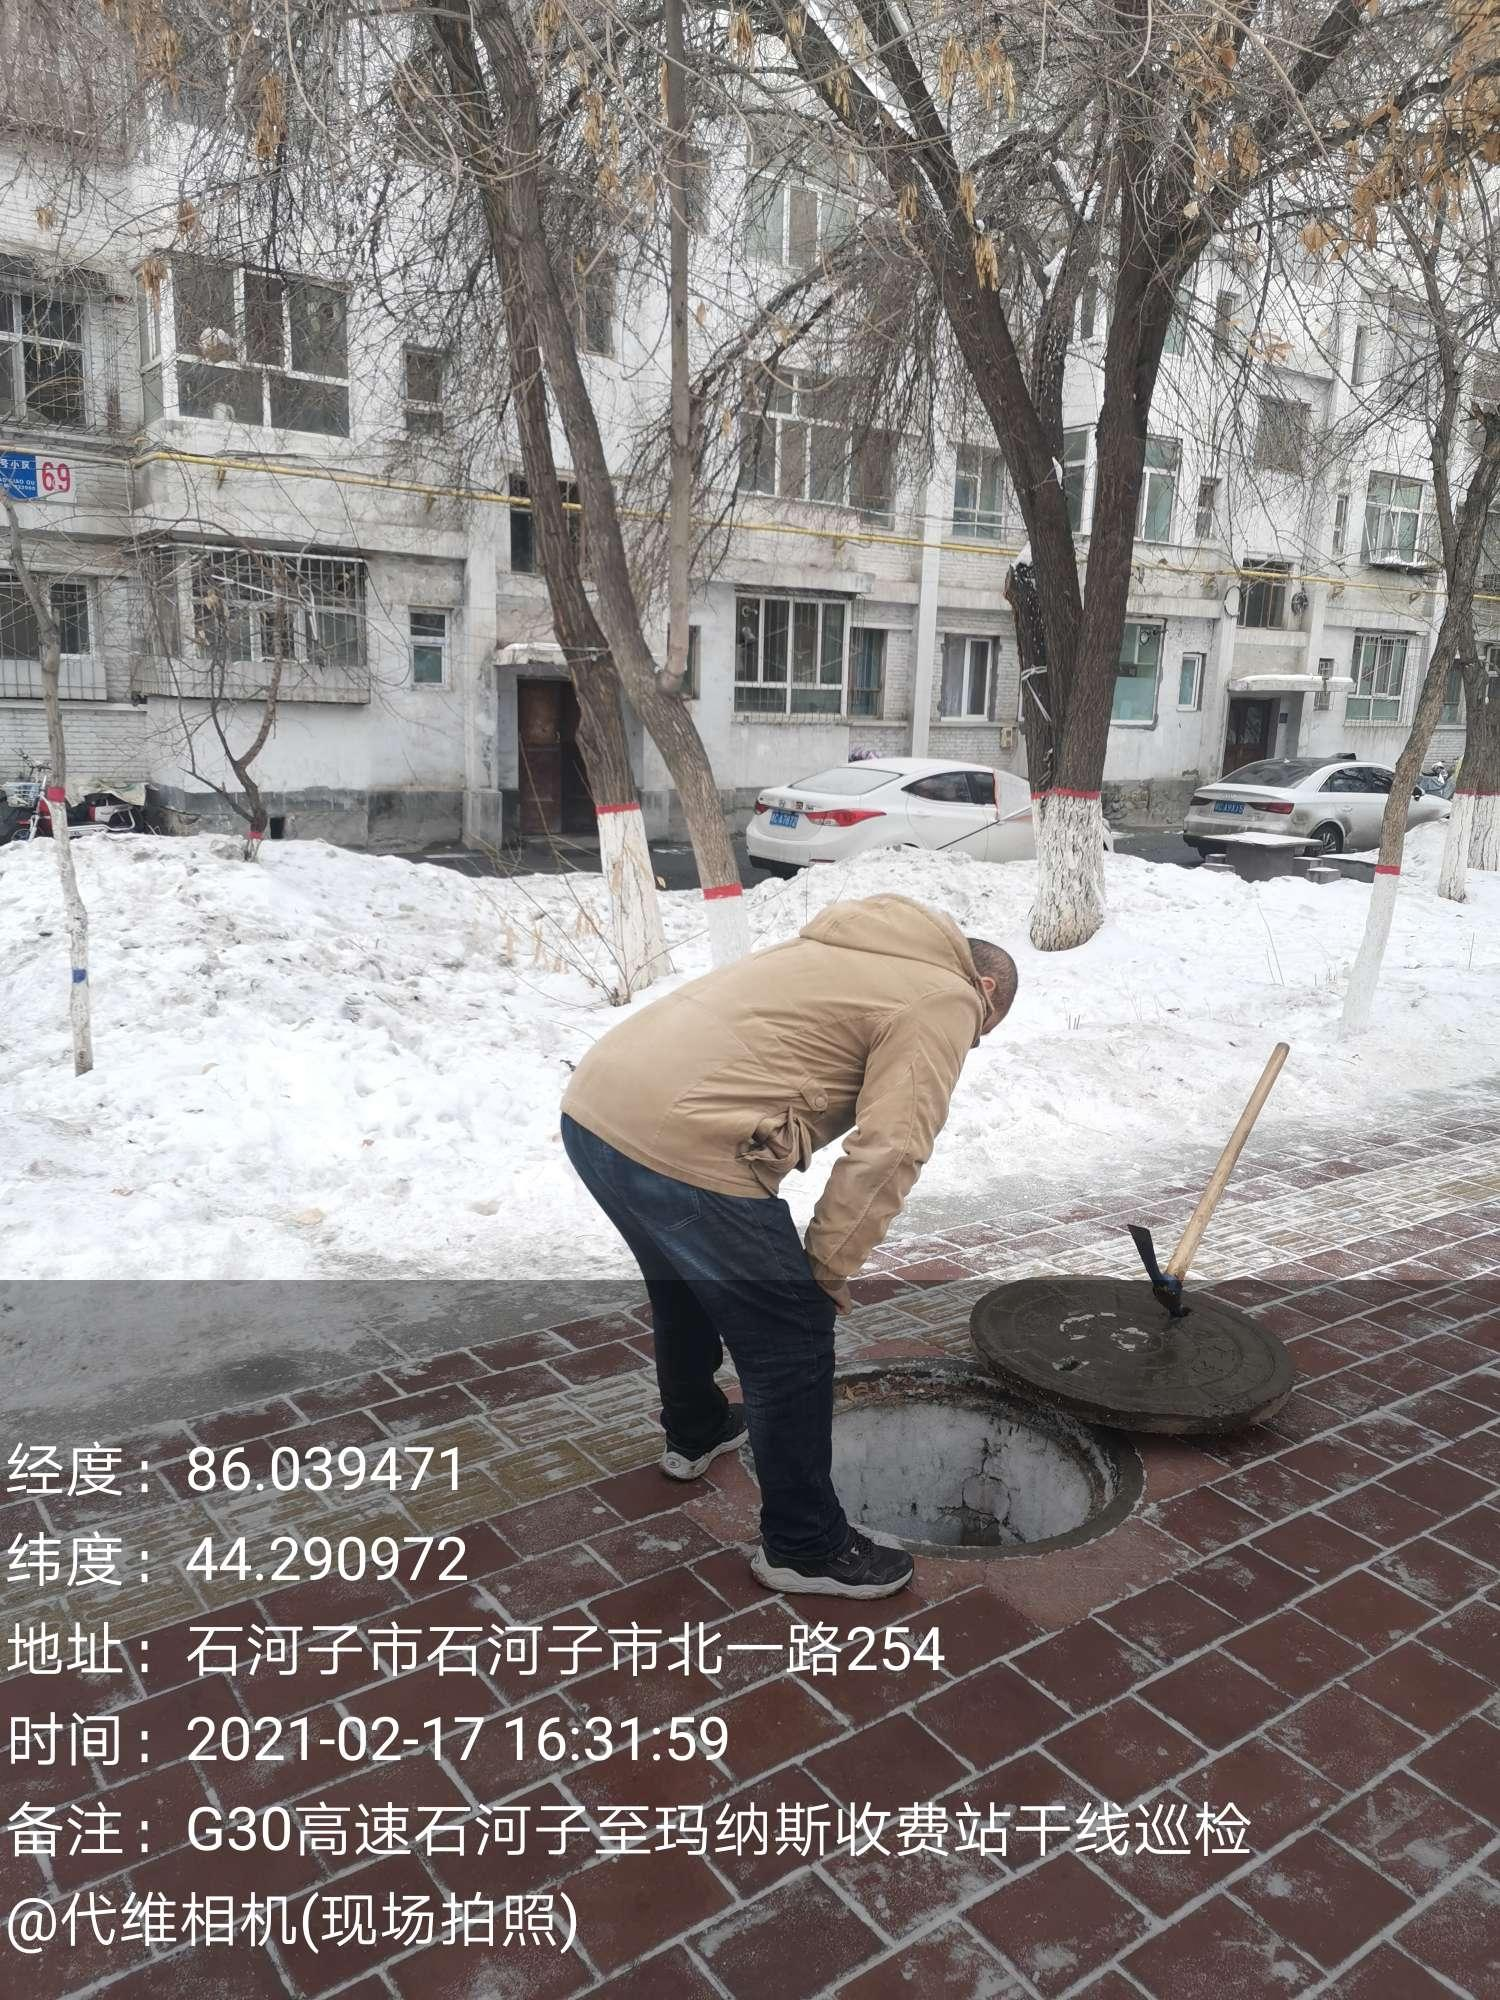wellcover: (731, 1231, 1339, 1589)
